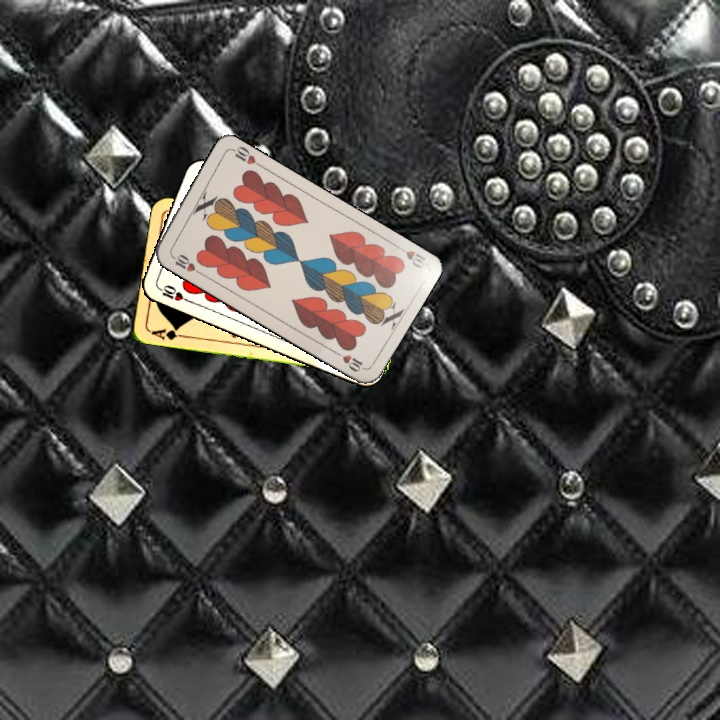GA: (147, 323, 188, 342)
H10: (392, 241, 429, 272), (153, 281, 192, 305), (167, 250, 203, 276)
